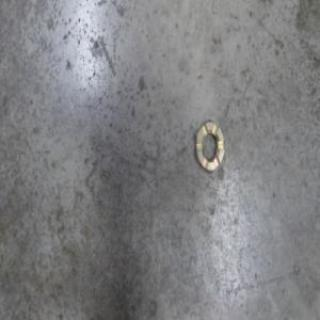Nuttrack_idkeyframe: (194, 116, 224, 174)
